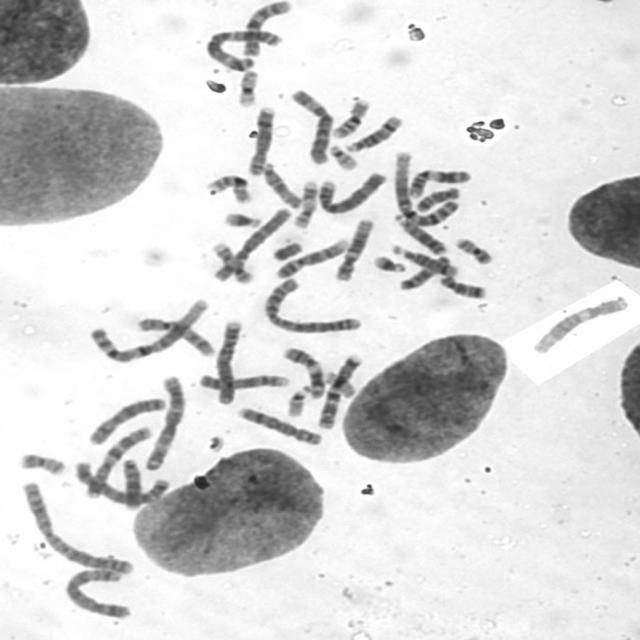A1: (83, 295, 211, 365), (390, 149, 462, 230)
A2: (19, 478, 135, 577), (259, 275, 364, 335)
A3: (140, 372, 187, 471), (202, 26, 283, 73)
B4: (314, 168, 388, 216), (212, 317, 244, 406)
B5: (71, 458, 171, 506), (60, 565, 134, 619)
C10: (137, 317, 217, 358), (237, 0, 292, 59)
C11: (280, 344, 326, 400), (404, 166, 470, 198)
C12: (528, 294, 631, 354), (331, 216, 375, 282)
C6: (209, 204, 293, 284), (287, 86, 334, 166)
C7: (80, 423, 154, 501), (314, 352, 360, 430)
C8: (234, 404, 324, 448), (244, 104, 278, 177)
C9: (273, 234, 350, 280), (195, 371, 292, 390)
D13: (390, 212, 449, 256), (119, 456, 142, 509)
D14: (342, 114, 404, 154), (389, 242, 458, 277)
D15: (396, 253, 452, 291), (260, 160, 302, 210)
E16: (328, 96, 372, 140), (204, 172, 253, 204)
E17: (208, 239, 254, 285), (289, 177, 320, 229)
E18: (412, 184, 462, 213), (437, 272, 488, 300)
F19: (233, 68, 262, 109), (321, 369, 356, 398)
F20: (450, 234, 494, 266), (17, 450, 68, 476)
G21: (221, 209, 263, 229), (370, 252, 407, 274)
G22: (326, 142, 360, 172), (283, 383, 311, 418)
X: (84, 395, 168, 446)
Y: (269, 239, 303, 263)
